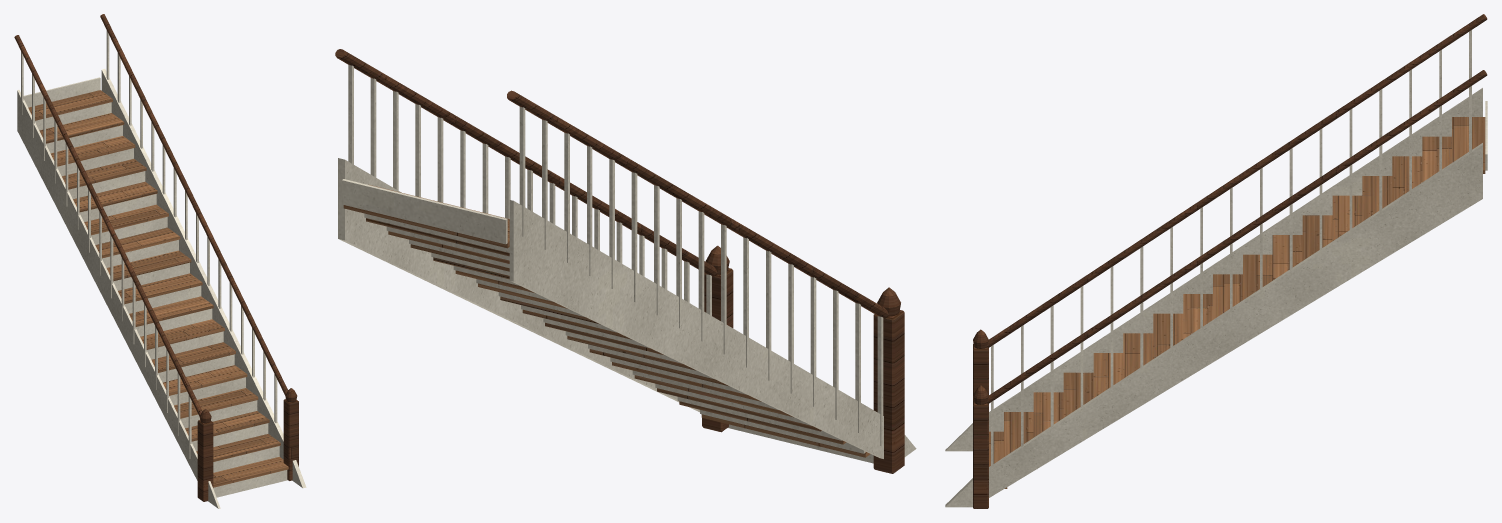
File: stair_both.glb
3 views of the same model, side by side, from view 1: azimuth 30°, elevation 25°; view 2: azimuth 150°, elevation 25°; view 3: azimuth 270°, elevation 25° (orthographic). The views are drawn at different scales.
Parts seen in each view (by area): view 1: stair_both_trim, stair_both_floor, stair_both_wood; view 2: stair_both_trim, stair_both_wood, stair_both_floor; view 3: stair_both_trim, stair_both_floor, stair_both_wood.
Boxes of the visible parts, x1,y1,x2,y2 form: stair_both_trim: (17,30,306,508); stair_both_floor: (28,90,288,487); stair_both_wood: (14,14,298,501); stair_both_trim: (338,65,916,463); stair_both_wood: (335,49,904,473); stair_both_floor: (343,184,870,457); stair_both_trim: (945,30,1487,507); stair_both_floor: (989,117,1485,488); stair_both_wood: (973,14,1487,508).
Size of the model in its own units: 1.29 by 4.18 by 4.72.
Materials: 3 (3 with a texture image).
